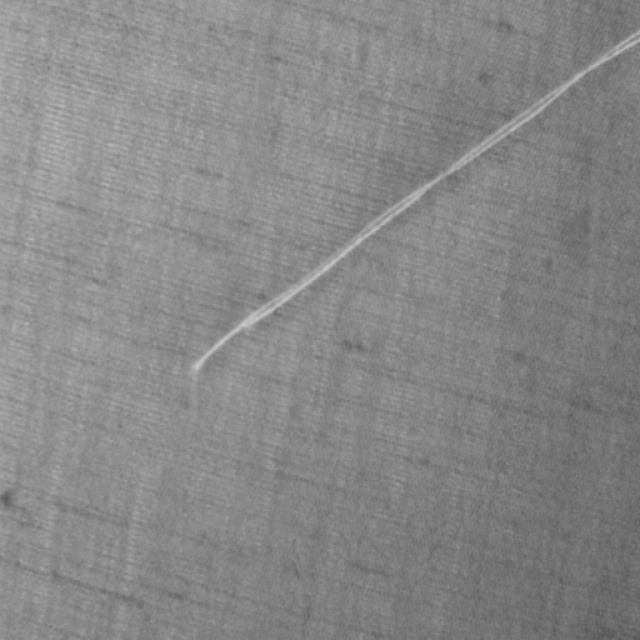Thread: (186, 29, 640, 375)
